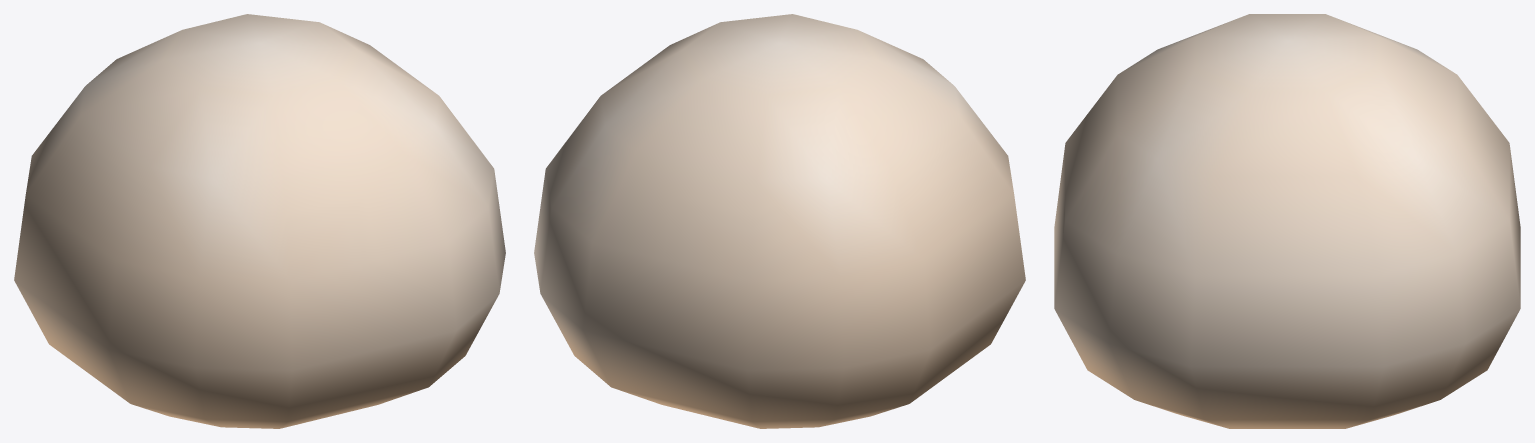
Rendered from food_ingredient_dough.obj.
3 renders of one model, left to right at view 1: azimuth 30°, elevation 25°; view 2: azimuth 150°, elevation 25°; view 3: azimuth 270°, elevation 25°, orthographic.
Visible parts, largest first — view 1: food_ingredient_dough_Sphere.230; view 2: food_ingredient_dough_Sphere.230; view 3: food_ingredient_dough_Sphere.230.
Part boxes in pixels (x1,y1,x2,y2): food_ingredient_dough_Sphere.230: (14,14,505,428); food_ingredient_dough_Sphere.230: (534,14,1025,428); food_ingredient_dough_Sphere.230: (1054,14,1520,428).
Bounding box in the file's own units: 0.7391 × 0.589 × 0.7391.
Materials: 1 (1 with a texture image).
